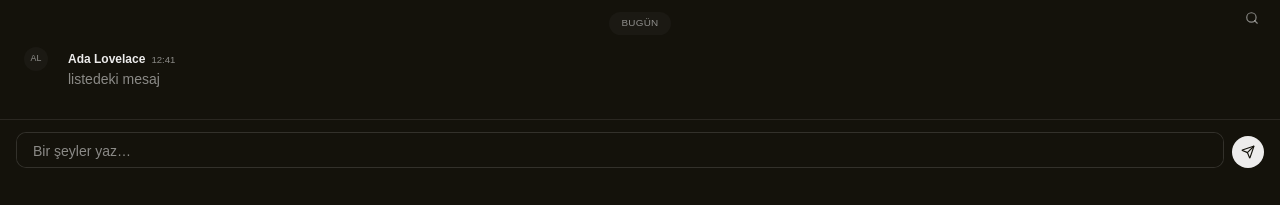
Test: ChatRoom › search › searches and renders matching results
Click the button named "Sohbette ara" at (1252, 18), box 1240,6 -> 1264,30
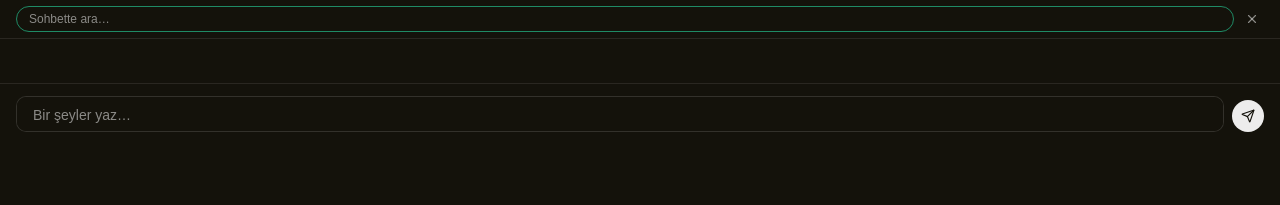
Type "aranan" into the field with placeholder "Sohbette ara…" at (625, 19), box 16,6 -> 1234,32
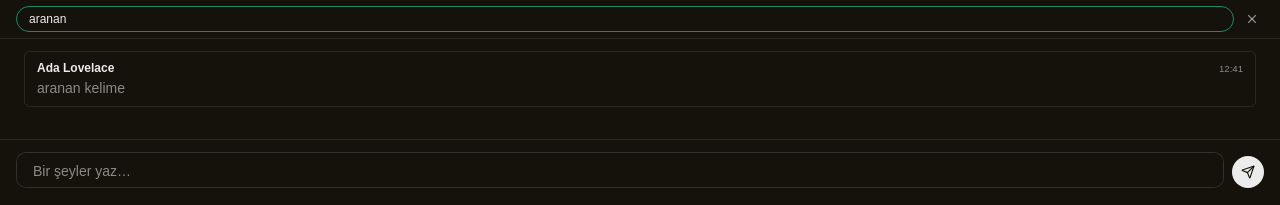
Expected: the text "listedeki mesaj" is not shown
Now the text "aranan kelime" is shown, box 37,80 -> 125,96
